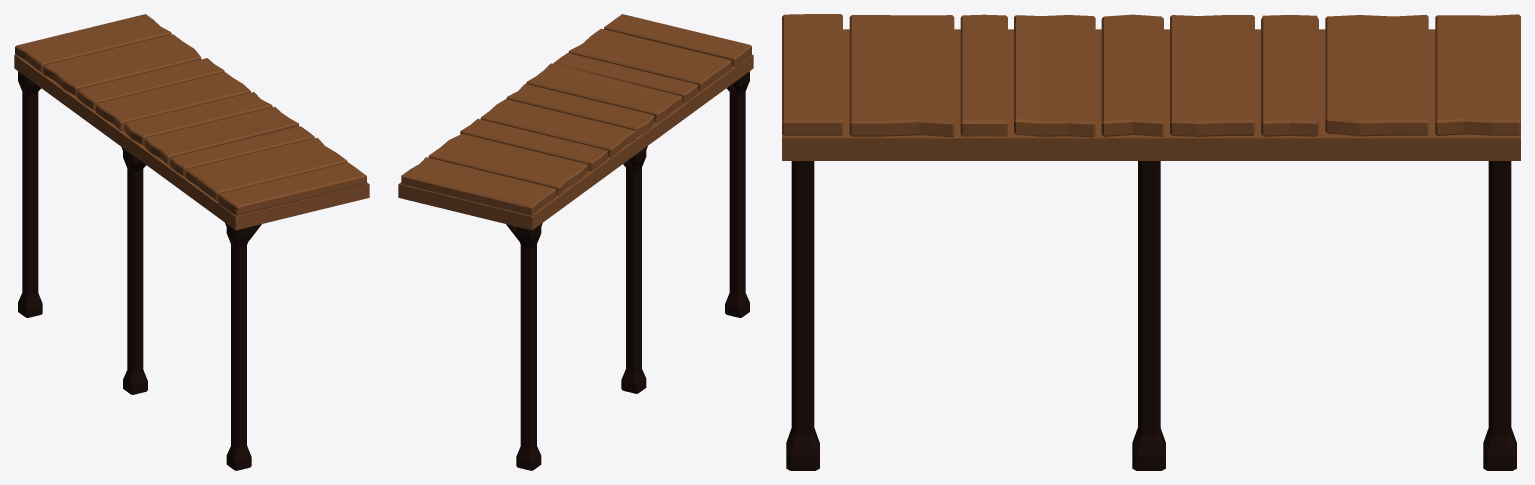
The model's file is ww_balcony_a.glb.
3 views of the same model, side by side, from view 1: azimuth 30°, elevation 25°; view 2: azimuth 150°, elevation 25°; view 3: azimuth 270°, elevation 25° (orthographic). The views are drawn at different scales.
Parts seen in each view (by area): view 1: Balcony_A; view 2: Balcony_A; view 3: Balcony_A.
Part boxes in pixels (x1=…): Balcony_A: x1=14, y1=14, x2=369, y2=470; Balcony_A: x1=398, y1=14, x2=753, y2=470; Balcony_A: x1=782, y1=14, x2=1520, y2=470.
Size of the model in its own units: 1.84 by 3.52 by 5.28.
